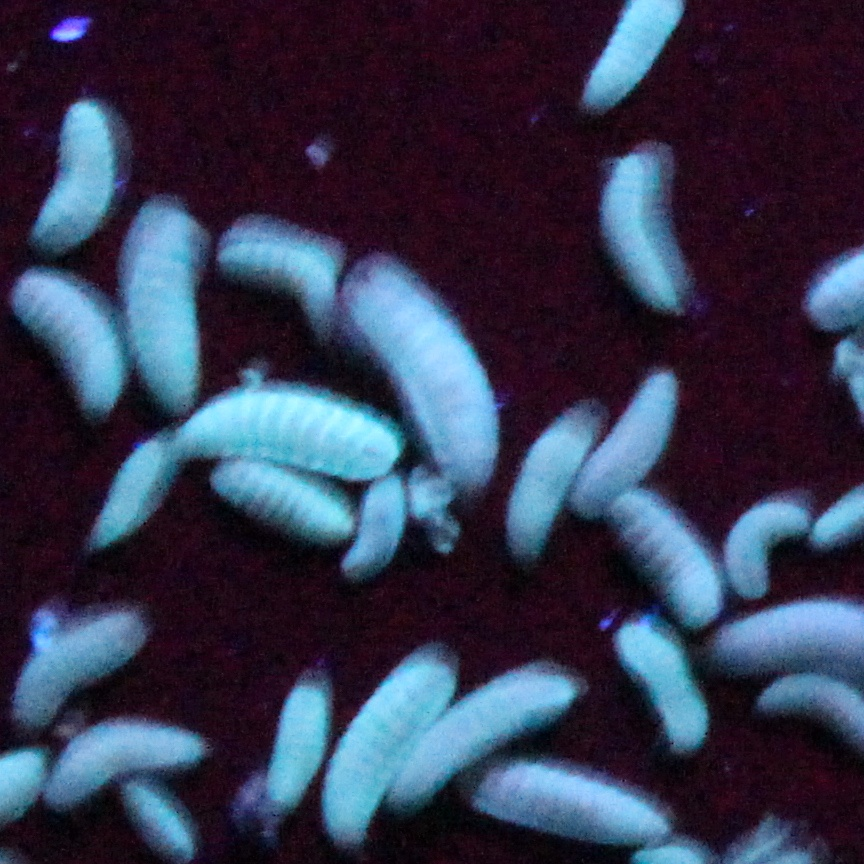larve: (343, 263, 496, 489), (391, 672, 574, 806), (323, 663, 453, 844), (174, 390, 397, 479), (472, 764, 669, 844), (11, 271, 122, 411), (126, 212, 201, 414), (612, 492, 720, 626), (574, 374, 676, 514), (15, 614, 145, 721), (47, 723, 200, 806), (31, 101, 115, 248), (507, 416, 595, 551), (615, 623, 708, 748), (603, 154, 675, 312), (213, 463, 352, 541), (219, 241, 331, 324), (90, 439, 166, 545), (724, 504, 808, 597), (266, 684, 321, 804), (344, 479, 405, 576), (124, 784, 192, 861)
